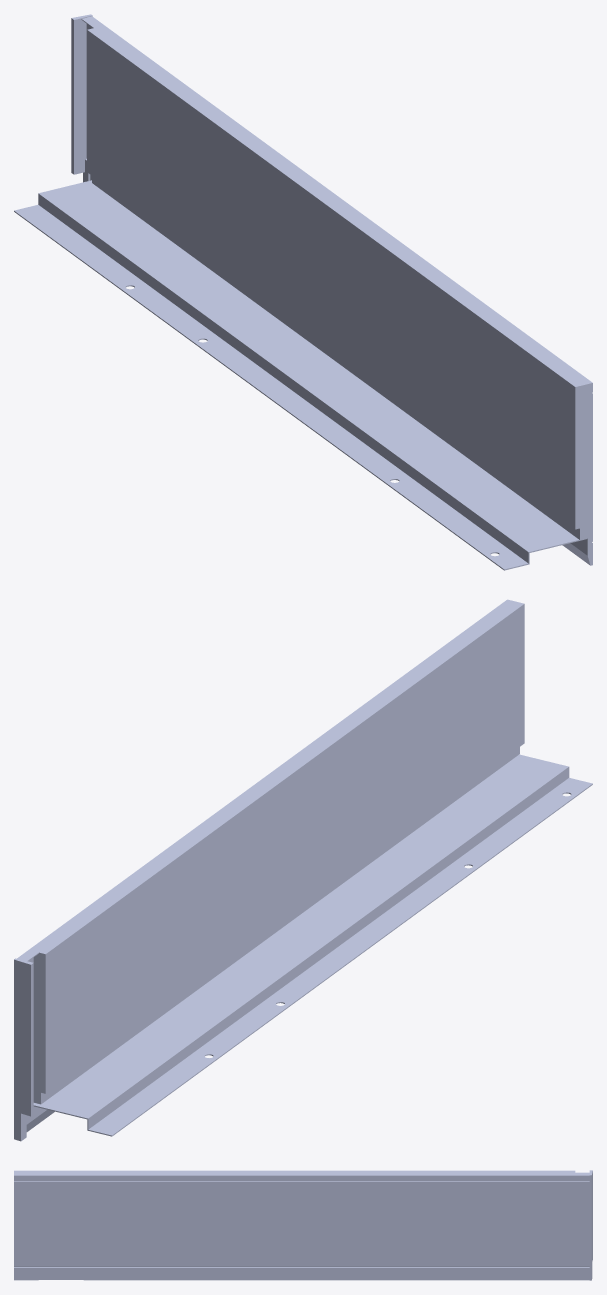
Rendered from lg-kava-K650-m.glb.
The picture shows the model from 3 angles, top to bottom: view 1: azimuth 30°, elevation 25°; view 2: azimuth 150°, elevation 25°; view 3: azimuth 270°, elevation 25°; orthographic projection. The views are drawn at different scales.
Visible parts, largest first — view 1: 42180588; view 2: 42180588; view 3: 42180588.
Boxes of the visible parts, <box> form: 42180588: <box>14,14,592,570</box>; 42180588: <box>14,599,592,1141</box>; 42180588: <box>14,1170,592,1280</box>.
Size of the model in its own units: 0.0653 by 0.1292 by 0.6435.
